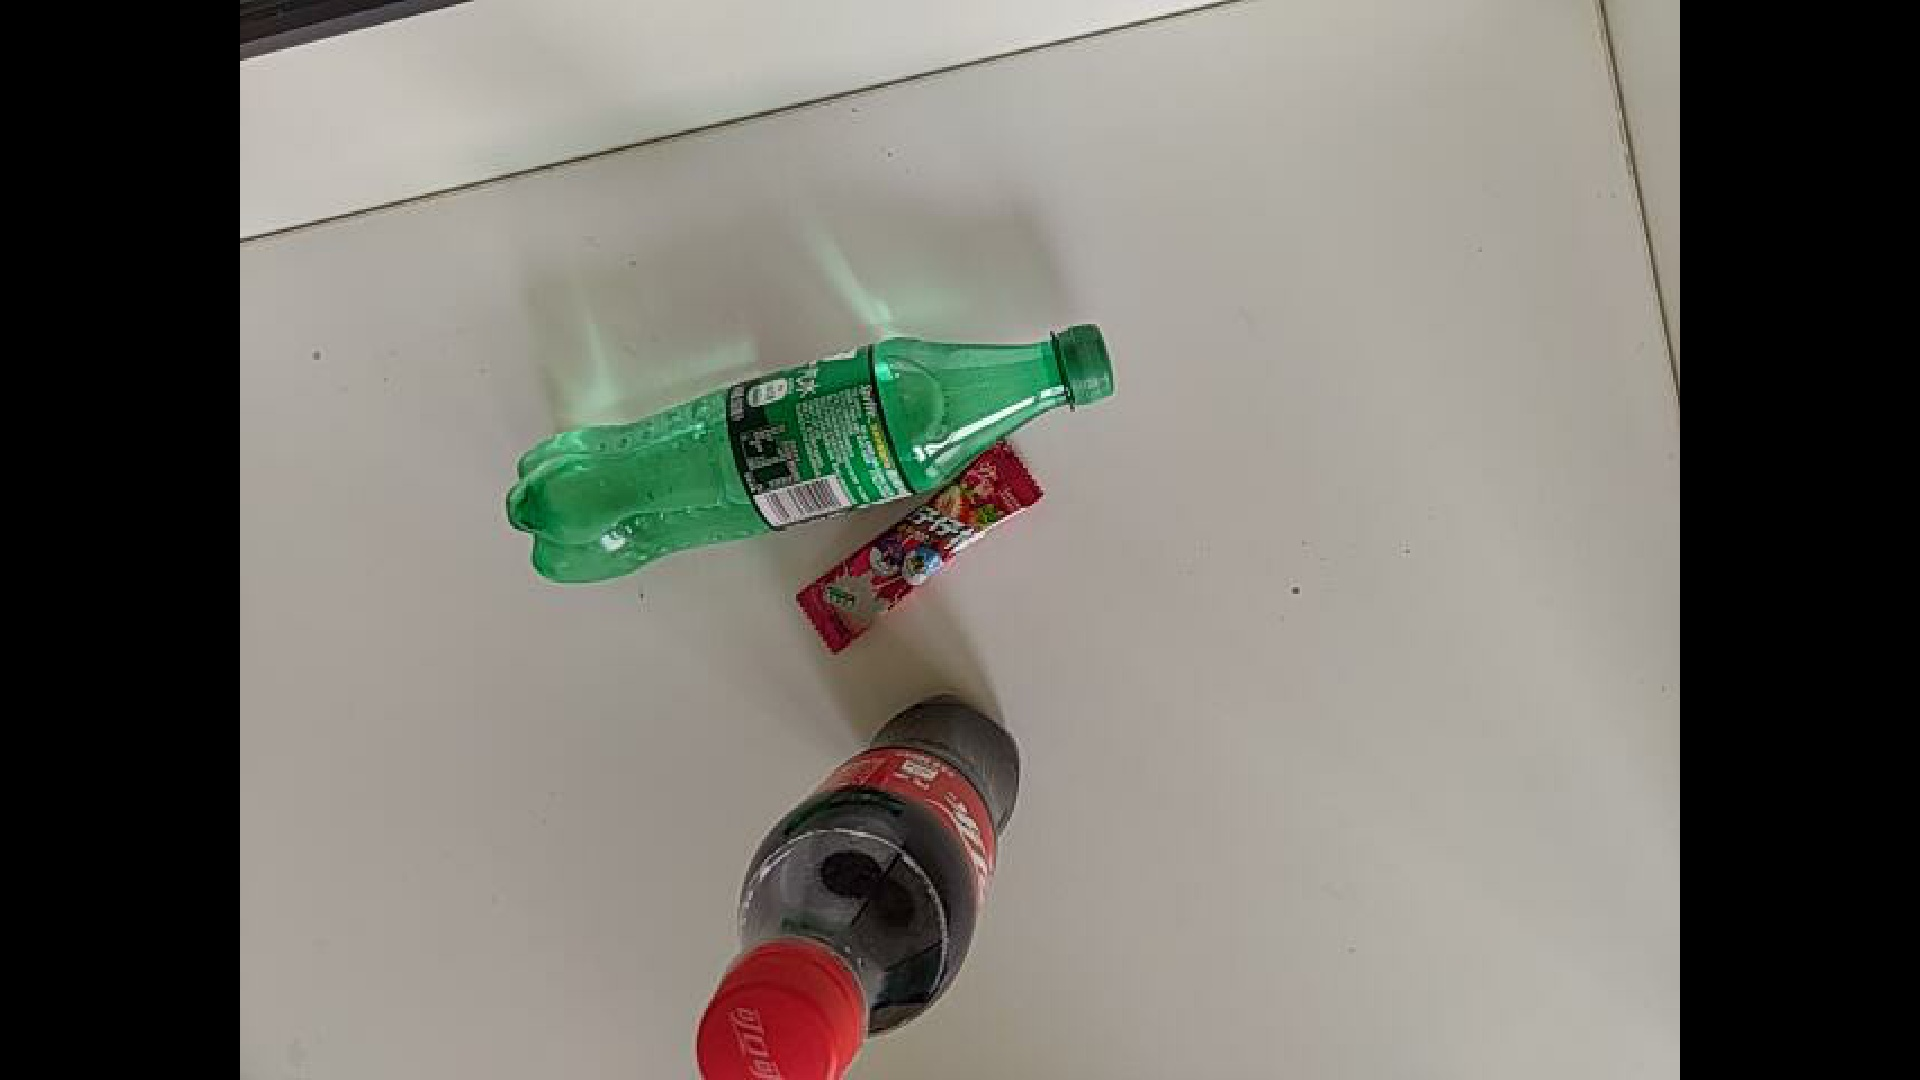cola: (695, 692, 1021, 1080)
sprite: (485, 351, 1167, 604)
sugar: (746, 435, 1052, 591)
